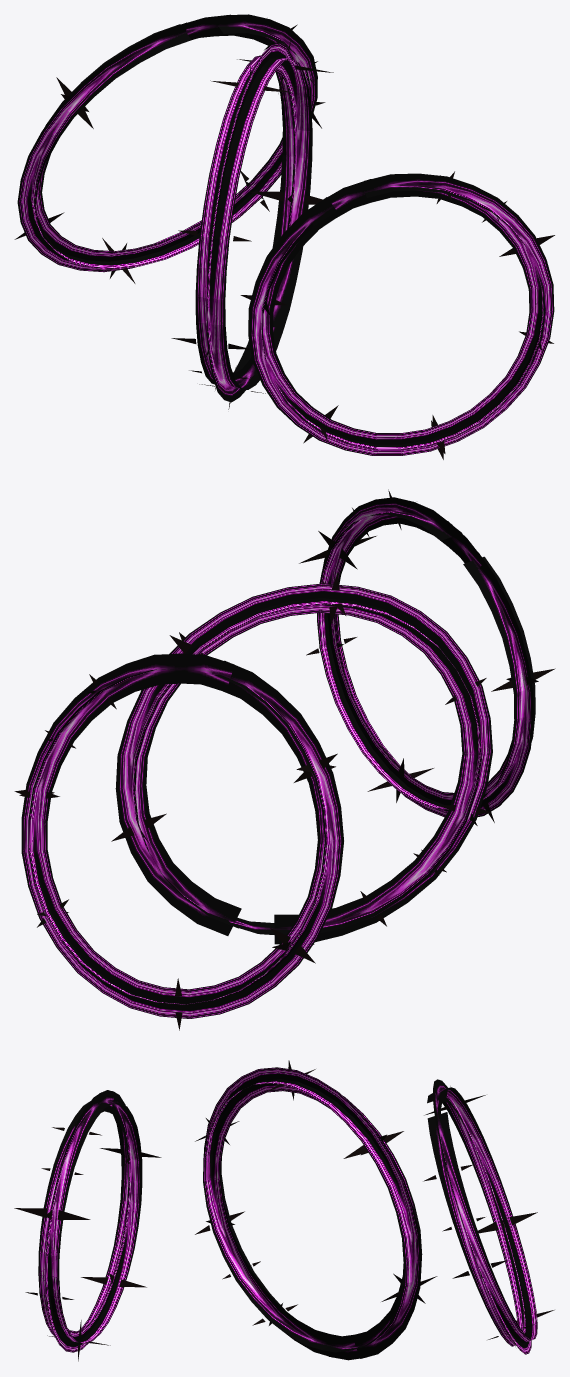
The model's file is tx_godskill_shengzhishenpan_fire.obj.
3 renders of one model, top to bottom at view 1: azimuth 30°, elevation 25°; view 2: azimuth 150°, elevation 25°; view 3: azimuth 270°, elevation 25°, orthographic. The views are drawn at different scales.
Parts seen in each view (by area): view 1: liantiao03, liantiao05, liantiao04, Object12, Object09, Object11; view 2: liantiao05, liantiao04, liantiao03, Object11, Object09, Object12; view 3: liantiao05, liantiao04, liantiao03, Object11, Object12, Object09.
Boxes of the visible parts, box(x1,y1,x2,y2) form: liantiao03: box(248, 173, 554, 455); liantiao05: box(195, 42, 312, 402); liantiao04: box(17, 14, 317, 272); Object12: box(171, 39, 333, 409); Object09: box(14, 24, 325, 283); Object11: box(240, 171, 554, 459); liantiao05: box(115, 583, 492, 944); liantiao04: box(21, 653, 343, 1018); liantiao03: box(317, 497, 535, 817); Object11: box(299, 489, 555, 822); Object09: box(14, 674, 337, 1030); Object12: box(111, 572, 491, 926); liantiao05: box(203, 1067, 422, 1360); liantiao04: box(427, 1079, 537, 1354); liantiao03: box(38, 1090, 142, 1352); Object11: box(14, 1121, 161, 1361); Object12: box(195, 1060, 437, 1325); Object09: box(423, 1086, 554, 1346).
Bounding box in the file's own units: 82.61 × 87.63 × 150.
